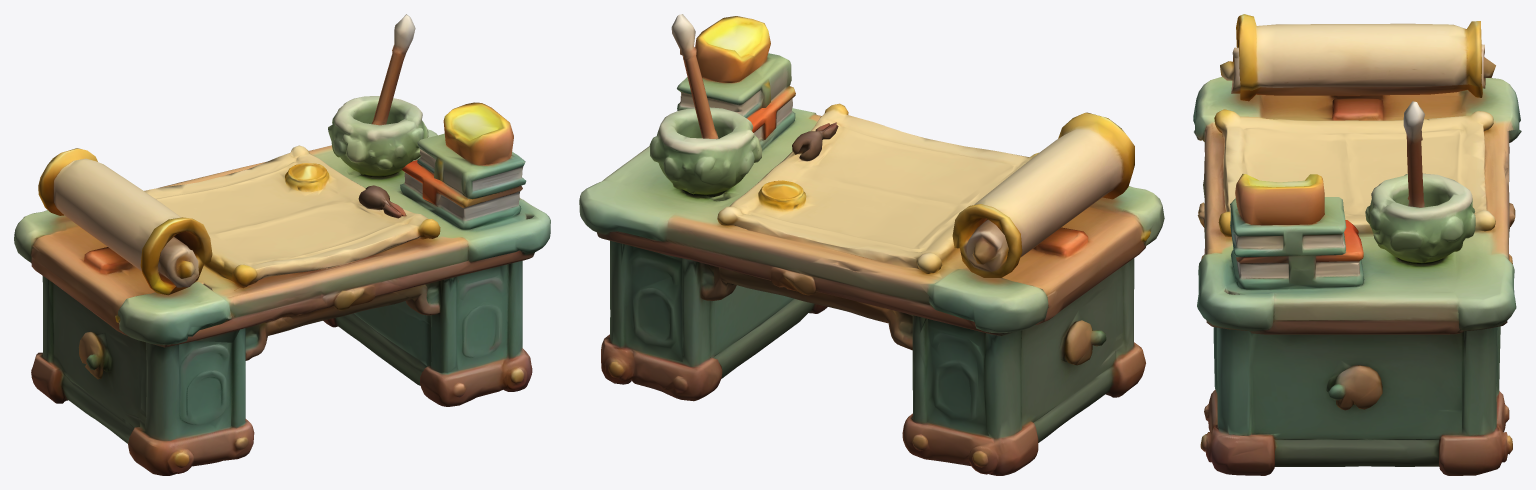
Rendered from drama_lead-detail.glb.
3 renders of one model, left to right at view 1: azimuth 30°, elevation 25°; view 2: azimuth 150°, elevation 25°; view 3: azimuth 270°, elevation 25°, orthographic. The views are drawn at different scales.
Parts seen in each view (by area): view 1: tripo_node_9b244744-dcbc-450e-ae68-49f84d6d1a03; view 2: tripo_node_9b244744-dcbc-450e-ae68-49f84d6d1a03; view 3: tripo_node_9b244744-dcbc-450e-ae68-49f84d6d1a03.
Boxes of the visible parts, x1,y1,x2,y2 form: tripo_node_9b244744-dcbc-450e-ae68-49f84d6d1a03: (14,14,550,475); tripo_node_9b244744-dcbc-450e-ae68-49f84d6d1a03: (579,14,1164,475); tripo_node_9b244744-dcbc-450e-ae68-49f84d6d1a03: (1193,14,1521,475).
Size of the model in its own units: 0.9808 by 0.7073 by 0.5924.
1 material, 1 textured.
